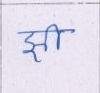i_matra: (48, 24, 62, 50)
